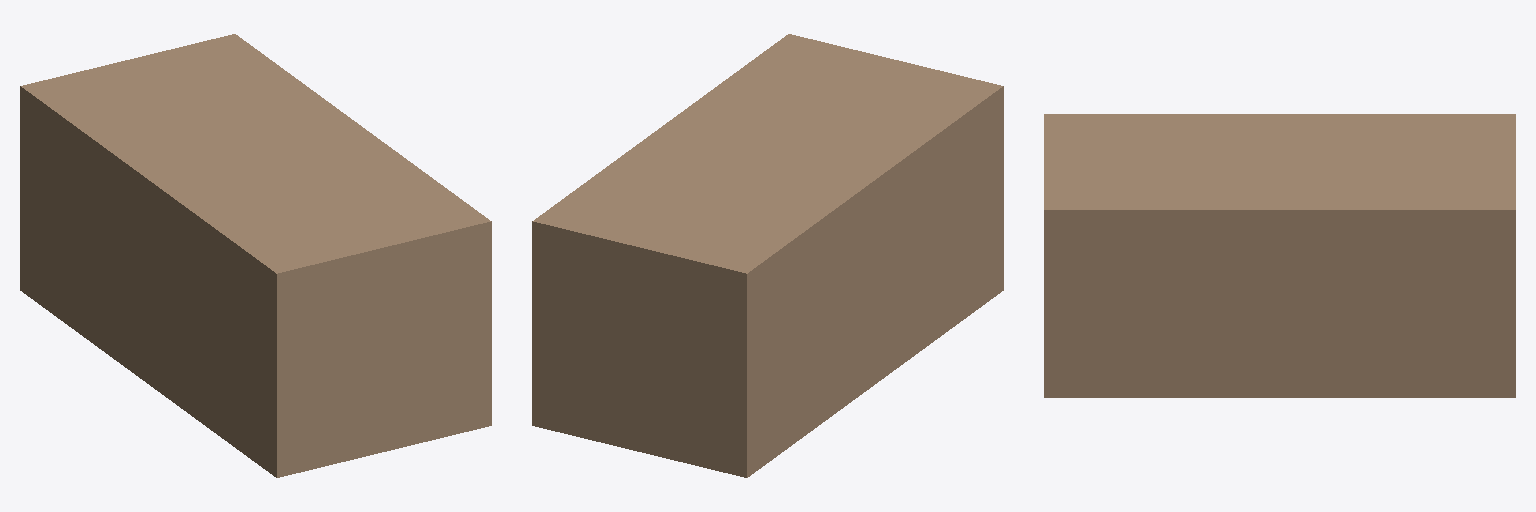
URDF robot description (box.urdf):
<?xml version="1.0" ?>
<robot name="box.urdf">
  <link name="baseLink">
    <contact>
      <lateral_friction value="1.0"/>
      <rolling_friction value="0.0001"/>
      <inertia_scaling value="3.0"/>
    </contact>
    <inertial>
      <origin rpy="0 0 0" xyz="0 0 0"/>
       <mass value="0.1"/>
       <inertia ixx="1" ixy="0" ixz="0" iyy="1" iyz="0" izz="1"/>
    </inertial>
    <visual>
      <origin rpy="0 0 0" xyz="0 0 0"/>
      <geometry>
        <!-- <box size="0.223 0.461 0.203"/> -->
        <mesh filename="box/box.obj" scale="0.223 0.461 0.203"/>
      </geometry>
      <material name="white">
        <color rgba="0.7 0.6 0.5 1"/>
      </material>
    </visual>
    <collision>
      <origin rpy="0 0 0" xyz="0 0 0"/>
      <geometry>
        <mesh filename="box/box.obj" scale="0.223 0.461 0.203"/>
	 	    <!-- <box size="0.223 0.461 0.203"/> -->
      </geometry>
    </collision>
  </link>
</robot>

--- Render facts (derived) ---
The picture shows the robot from 3 angles, left to right: view 1: azimuth 30°, elevation 25°; view 2: azimuth 150°, elevation 25°; view 3: azimuth 270°, elevation 25°; orthographic projection.
Robot: box.urdf — 1 links, 0 joints (none); root link baseLink; default pose: every joint at zero.
Visible links, largest first — view 1: baseLink; view 2: baseLink; view 3: baseLink.
Boxes of the visible links, x1,y1,x2,y2 form: baseLink: [20, 34, 491, 477]; baseLink: [532, 34, 1003, 477]; baseLink: [1044, 114, 1515, 397].
Bounding box of the posed robot: 0.223 × 0.461 × 0.203 m (x, y, z).
Meshes: 1 distinct files referenced, 1 mesh visuals loaded (1 OBJ).
